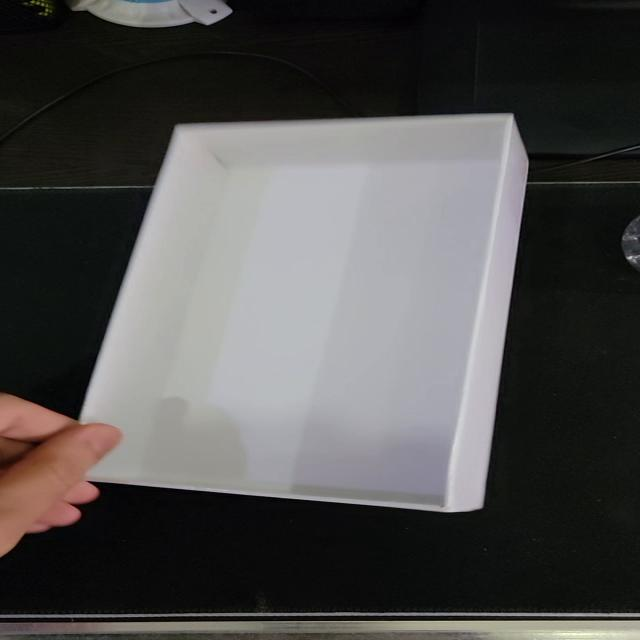Organik: (57, 110, 540, 518)
